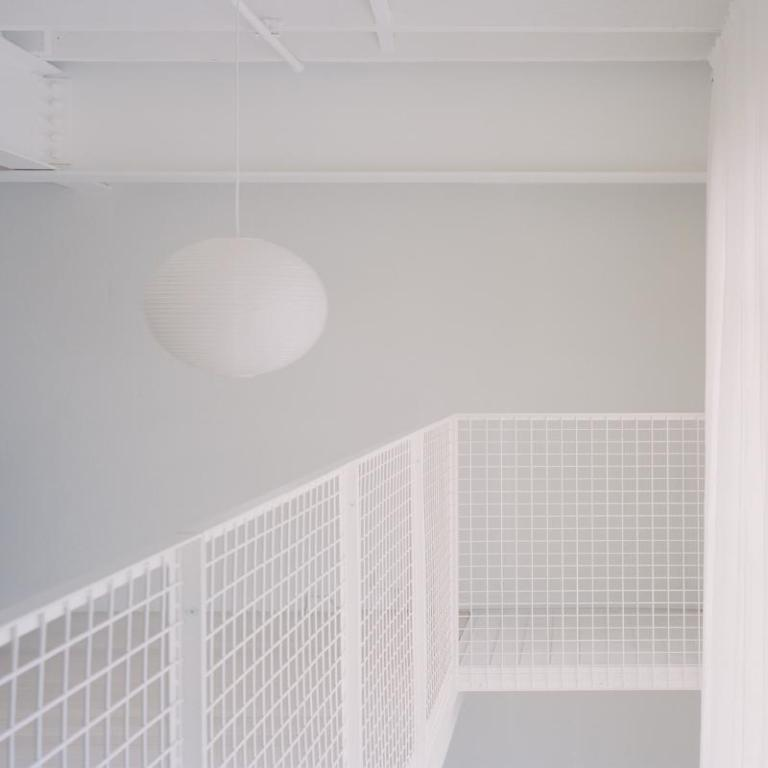white-walls: (13, 197, 688, 584)
